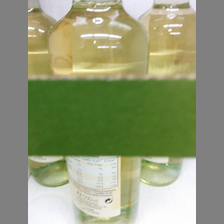vinegar: (50, 1, 150, 224)
